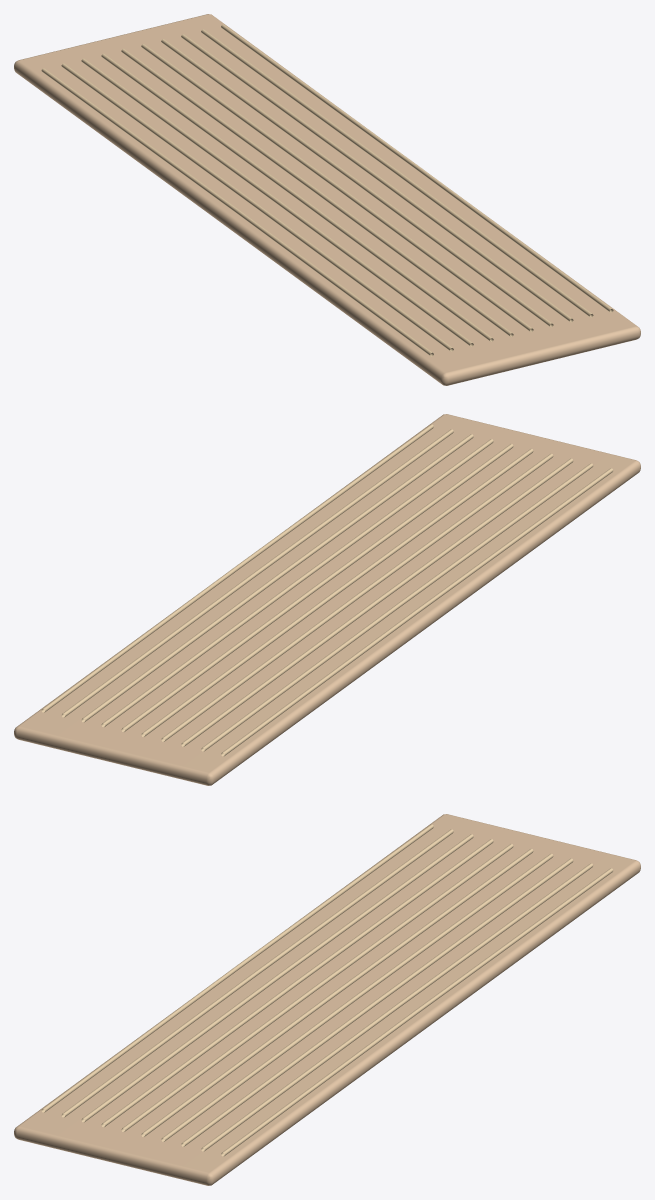
Rendered from atelier-table-runner.glb.
3 views of the same model, one above another, from view 1: azimuth 30°, elevation 25°; view 2: azimuth 150°, elevation 25°; view 3: azimuth 330°, elevation 25° (orthographic).
Visible parts, largest first — view 1: bedding.019, accent.034; view 2: bedding.019, accent.034; view 3: bedding.019, accent.034.
Part boxes in pixels (bbox=[...]): bedding.019: bbox=[14, 14, 640, 385]; accent.034: bbox=[41, 24, 613, 356]; bedding.019: bbox=[14, 414, 640, 785]; accent.034: bbox=[41, 424, 613, 756]; bedding.019: bbox=[14, 814, 640, 1185]; accent.034: bbox=[41, 824, 613, 1156].
Bounding box in the file's own units: 0.4 × 0.0359 × 1.5.
